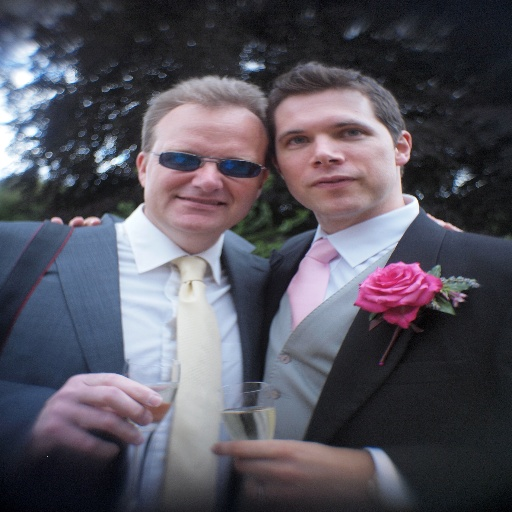hand: (25, 364, 174, 472), (208, 439, 378, 511)
